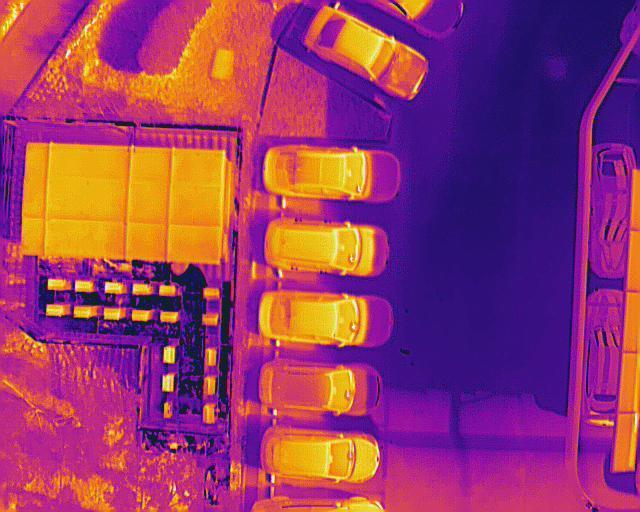Unclassified: (612, 414, 639, 473)
